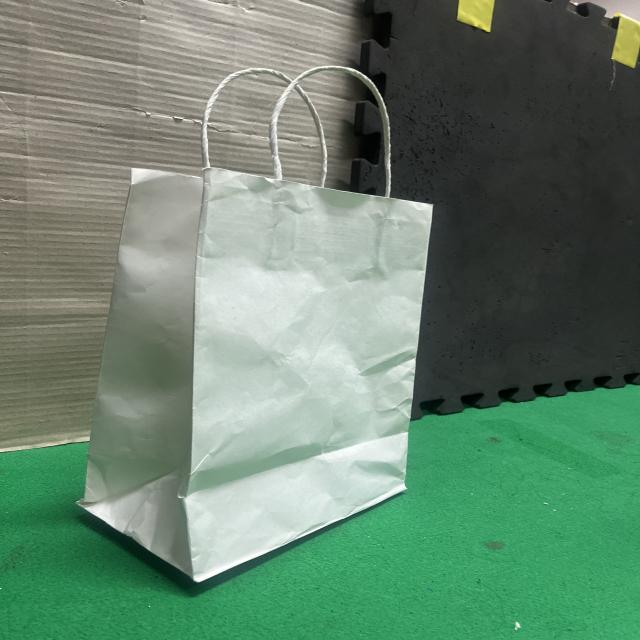paper bag: (48, 44, 436, 609)
